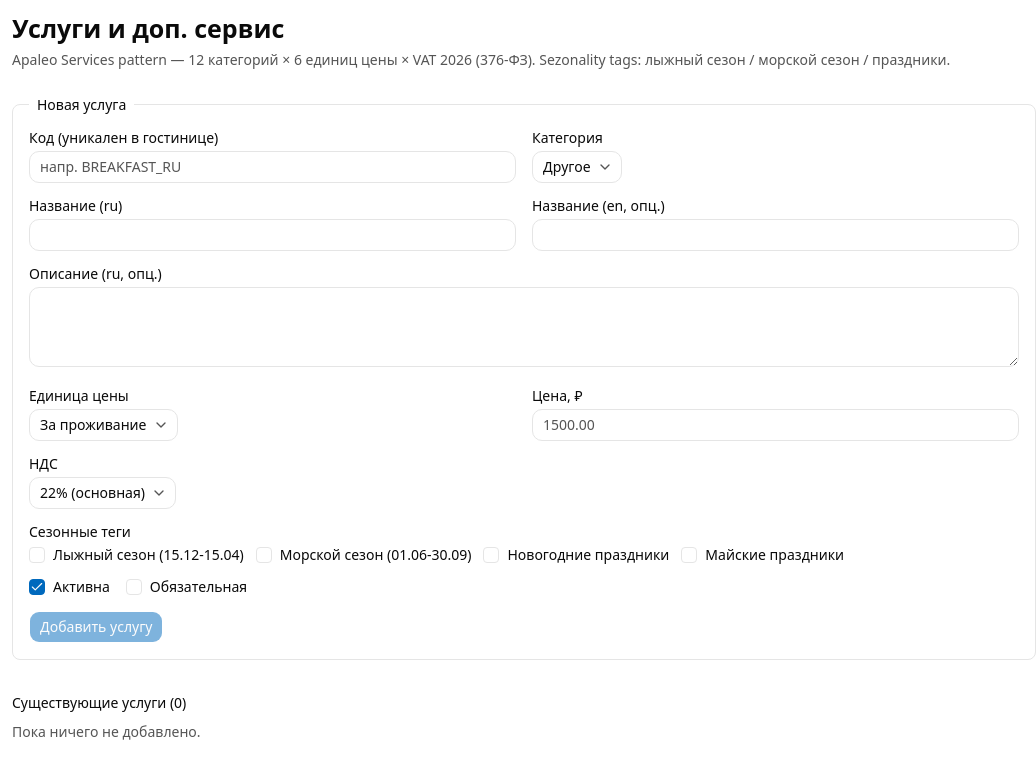
<AddonsStep> — enum coverage › [E1] category dropdown has 12 options (drift surface)
Click the dropdown named "Категория" at (577, 166), box [532,150,622,182]
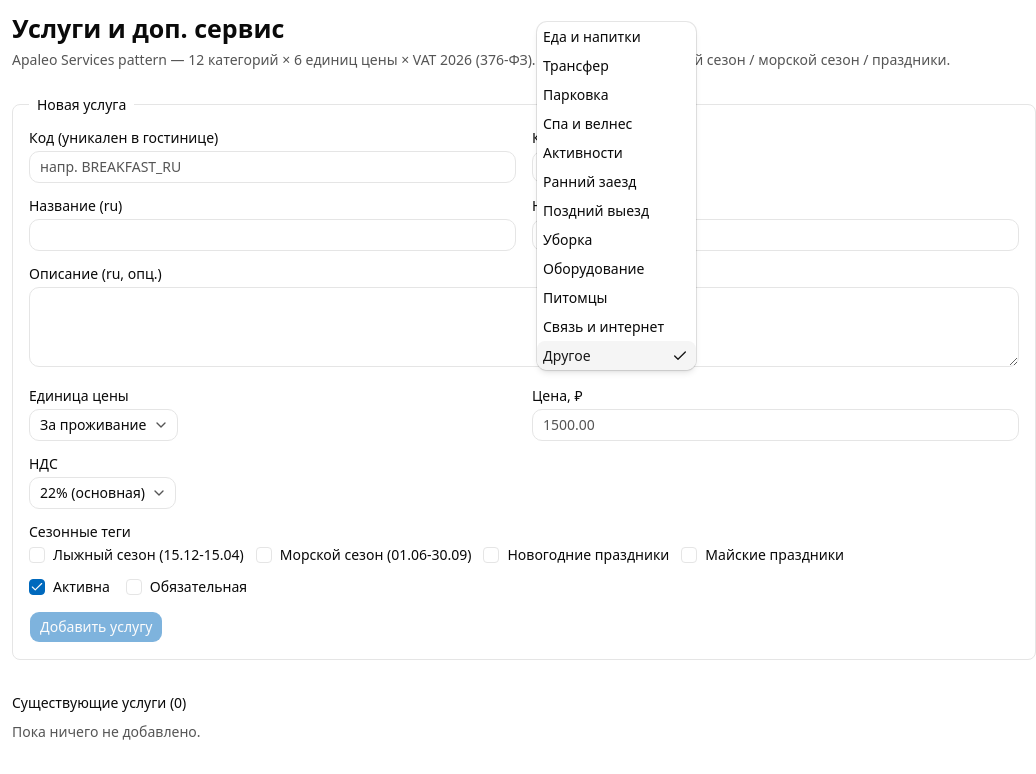
Check: the number of options is 12
